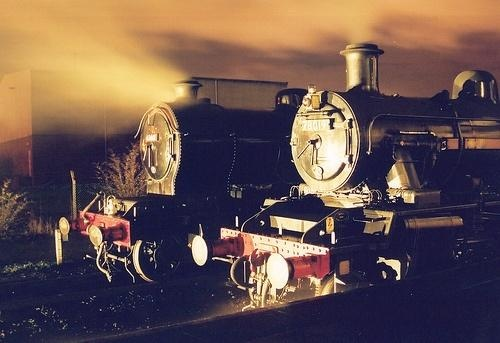train: (194, 48, 500, 319), (60, 84, 311, 289)
